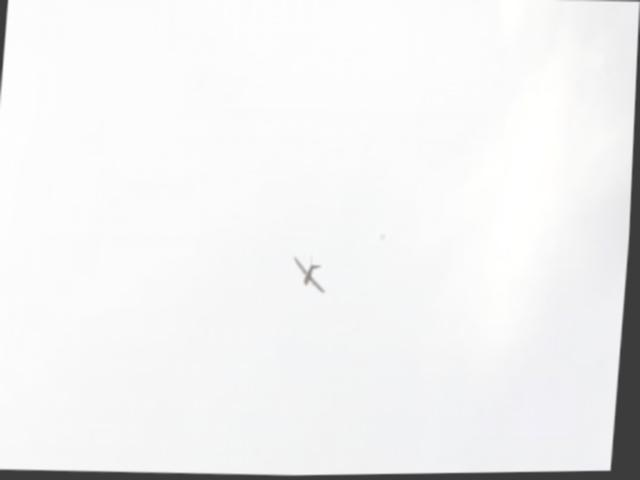uav: (292, 254, 331, 296)
